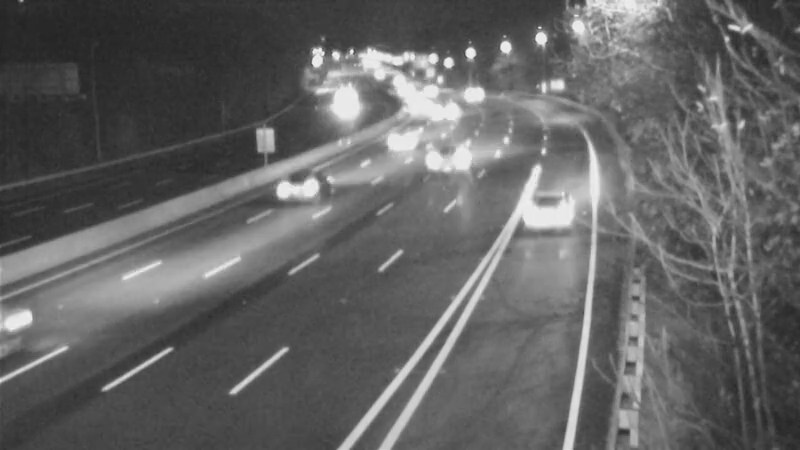vehicle: (405, 116, 485, 196), (267, 149, 347, 229), (508, 177, 588, 257), (450, 72, 500, 122), (406, 64, 456, 114), (384, 67, 434, 117), (395, 75, 445, 125), (397, 84, 447, 134), (424, 81, 474, 131), (381, 118, 431, 168), (316, 74, 366, 124)
